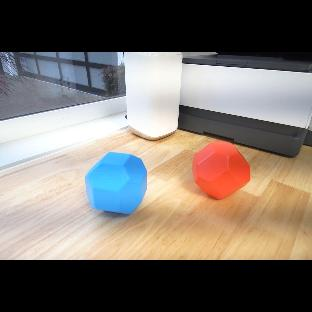V5_BLUE: (85, 151, 149, 215)
V5_RED: (191, 140, 250, 200)
